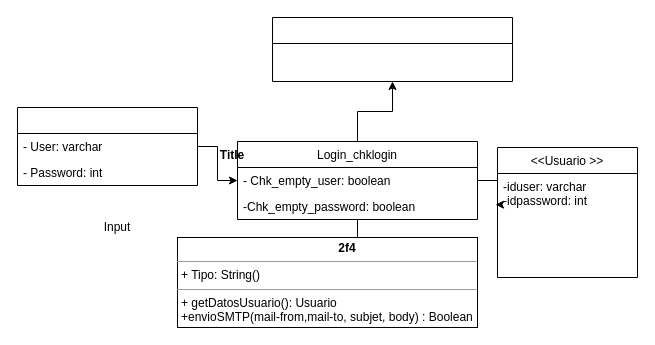
This 655x345 diagram has some shape labels left out. Here are the shapes that lost their labels. From the top down, the box of each, then its label:
(272, 16, 512, 82): Politicas
(16, 106, 198, 186): Login
